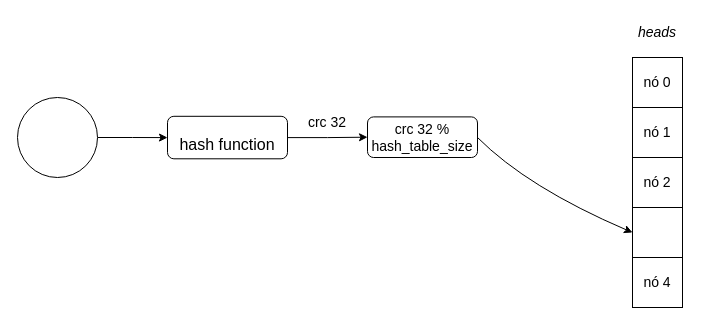
Image size: 705x325. Some labels were removed from this diagram. Each missing label, with the centre of its shape:
nó 3: [657,232]
olá: [57,137]
